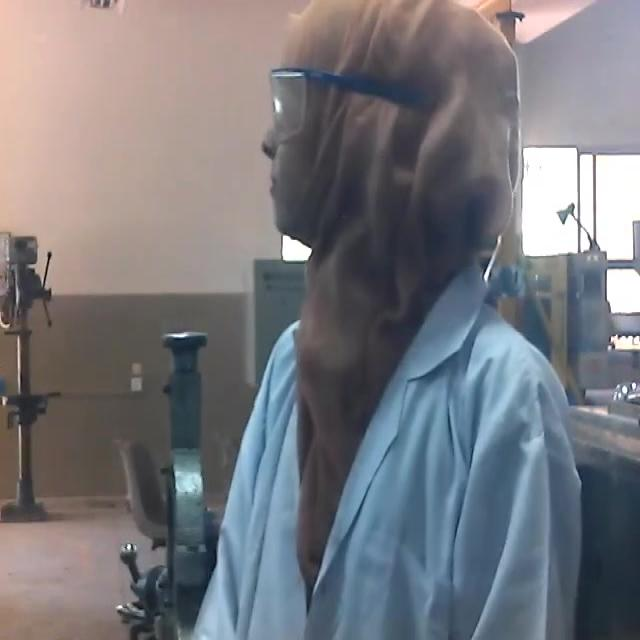googles: (268, 68, 318, 142)
labcoat: (185, 256, 585, 640)
